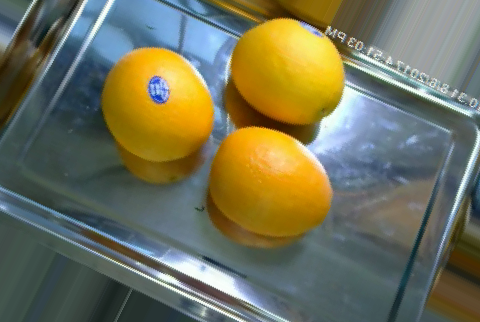Orange: (209, 126, 332, 237), (100, 46, 214, 161), (230, 18, 346, 125)
